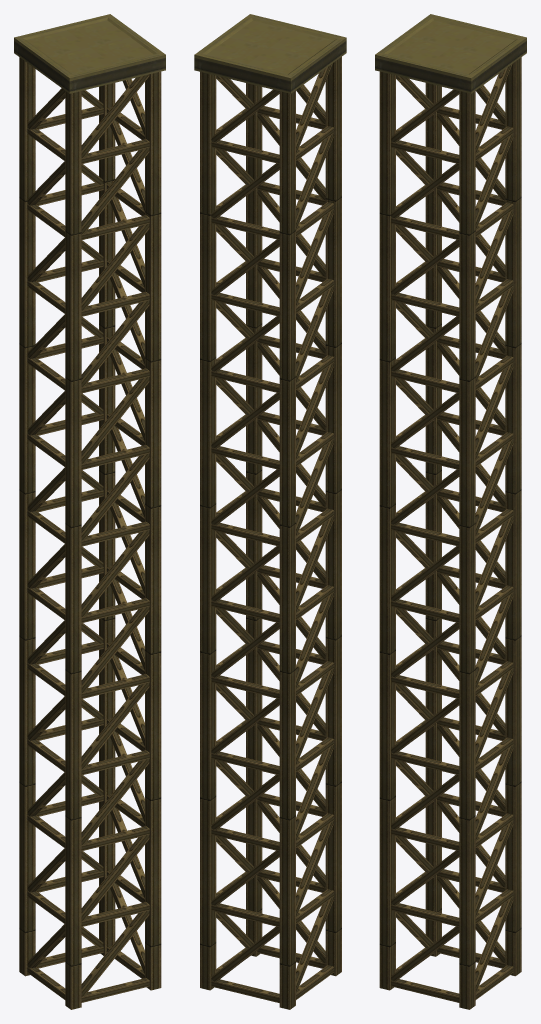
File: mast.obj
The picture shows the model from 3 angles, left to right: view 1: azimuth 30°, elevation 25°; view 2: azimuth 150°, elevation 25°; view 3: azimuth 330°, elevation 25°; orthographic projection.
Parts seen in each view (by area): view 1: Mast_Cube.006; view 2: Mast_Cube.006; view 3: Mast_Cube.006.
Part boxes in pixels (x1,y1,x2,y2): Mast_Cube.006: (14,14,165,1009); Mast_Cube.006: (194,14,346,1009); Mast_Cube.006: (375,14,526,1009).
Bounding box in the file's own units: 1.98 × 18.33 × 1.98.
